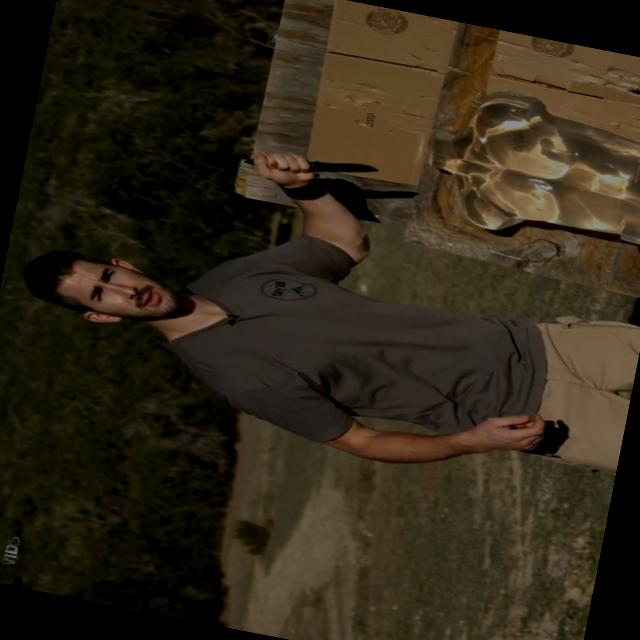knife: (242, 135, 389, 196)
